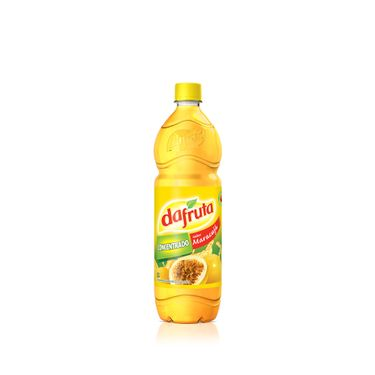maguary: (145, 78, 225, 327)
